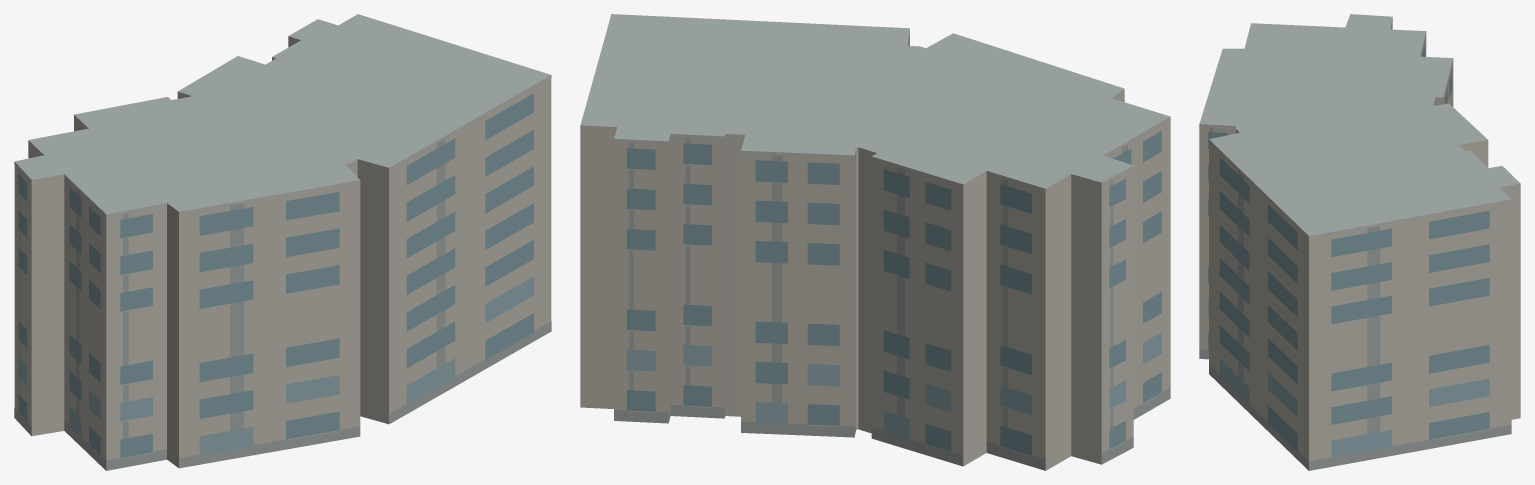
Rendered from residential-adad1da4-dcfb-4bb5-8395-720ea9100c55.glb.
3 renders of one model, left to right at view 1: azimuth 30°, elevation 25°; view 2: azimuth 150°, elevation 25°; view 3: azimuth 270°, elevation 25°, orthographic. The views are drawn at different scales.
Parts seen in each view (by area): view 1: residential-adad1da4-dcfb-4bb5-8395-720ea9100c55.tmp; view 2: residential-adad1da4-dcfb-4bb5-8395-720ea9100c55.tmp; view 3: residential-adad1da4-dcfb-4bb5-8395-720ea9100c55.tmp.
Part boxes in pixels (<box>): residential-adad1da4-dcfb-4bb5-8395-720ea9100c55.tmp: <box>14,14,551,470</box>; residential-adad1da4-dcfb-4bb5-8395-720ea9100c55.tmp: <box>580,14,1170,470</box>; residential-adad1da4-dcfb-4bb5-8395-720ea9100c55.tmp: <box>1199,14,1520,470</box>.
Bounding box in the file's own units: 44.65 × 22 × 27.28.
